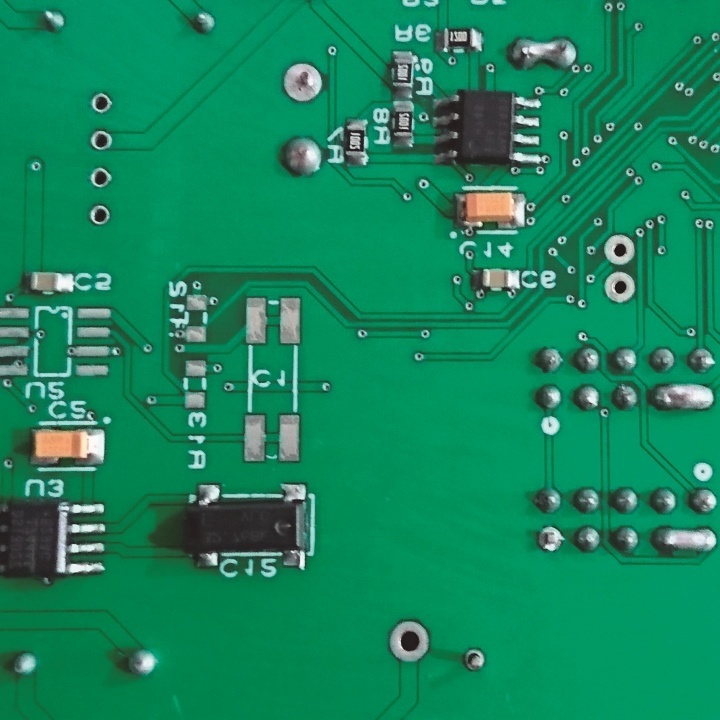F: (387, 615, 435, 666), (278, 59, 327, 103), (600, 272, 639, 309), (599, 232, 638, 268), (536, 523, 564, 555), (87, 126, 114, 153), (86, 164, 112, 191), (86, 204, 113, 228), (462, 650, 487, 675), (89, 92, 115, 114)
P: (506, 35, 583, 75), (647, 378, 718, 418), (653, 524, 720, 561)
